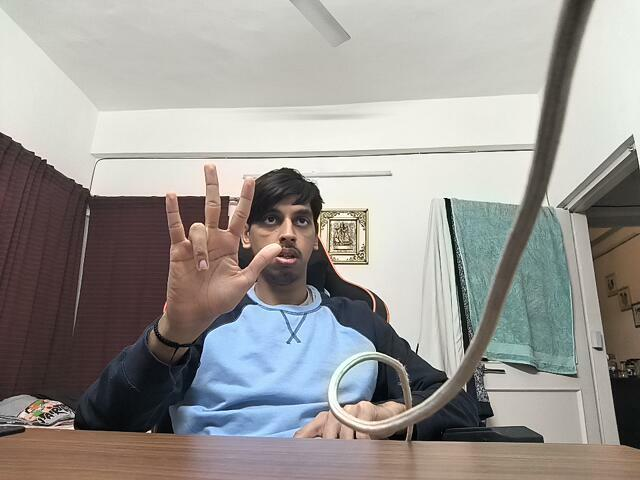BACKWARD: (158, 156, 281, 314)
